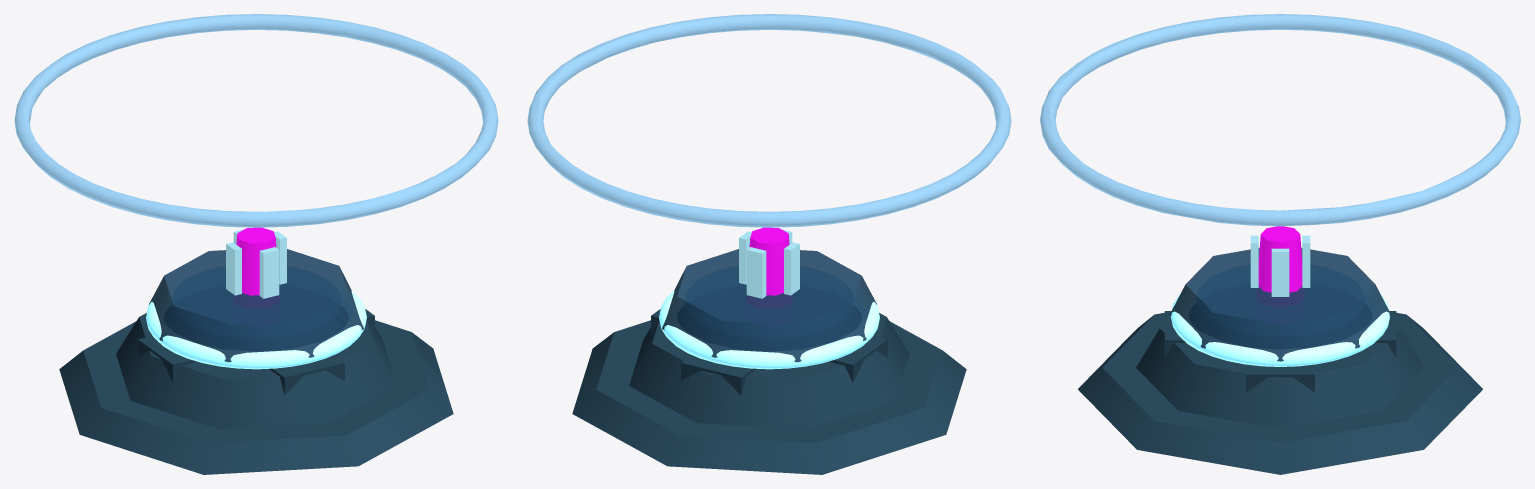
The model's file is courtyard-fountain.medium.glb.
The picture shows the model from 3 angles, left to right: view 1: azimuth 30°, elevation 25°; view 2: azimuth 150°, elevation 25°; view 3: azimuth 270°, elevation 25°; orthographic projection.
Parts seen in each view (by area): view 1: courtyard-fountain-body, upper-halo, courtyard-fountain-transparent|#1a3d5a|#17384a|0.08|0.55|0.2, water-ring, courtyard-fountain-emissive, core; view 2: courtyard-fountain-body, upper-halo, courtyard-fountain-transparent|#1a3d5a|#17384a|0.08|0.55|0.2, water-ring, courtyard-fountain-emissive, core; view 3: courtyard-fountain-body, upper-halo, courtyard-fountain-transparent|#1a3d5a|#17384a|0.08|0.55|0.2, water-ring, core, courtyard-fountain-emissive.
Boxes of the visible parts, left/top/right/bottom form: courtyard-fountain-body: left=59, top=309, right=453, bottom=474; upper-halo: left=14, top=14, right=498, bottom=227; courtyard-fountain-transparent|#1a3d5a|#17384a|0.08|0.55|0.2: left=149, top=249, right=363, bottom=362; water-ring: left=146, top=291, right=366, bottom=369; courtyard-fountain-emissive: left=226, top=229, right=286, bottom=298; core: left=236, top=227, right=276, bottom=295; courtyard-fountain-body: left=572, top=309, right=966, bottom=474; upper-halo: left=527, top=14, right=1011, bottom=227; courtyard-fountain-transparent|#1a3d5a|#17384a|0.08|0.55|0.2: left=662, top=249, right=876, bottom=362; water-ring: left=659, top=291, right=879, bottom=369; courtyard-fountain-emissive: left=739, top=229, right=799, bottom=298; core: left=749, top=227, right=789, bottom=295; courtyard-fountain-body: left=1078, top=311, right=1482, bottom=474; upper-halo: left=1040, top=14, right=1520, bottom=226; courtyard-fountain-transparent|#1a3d5a|#17384a|0.08|0.55|0.2: left=1169, top=248, right=1391, bottom=361; water-ring: left=1170, top=294, right=1390, bottom=366; core: left=1258, top=226, right=1302, bottom=292; courtyard-fountain-emissive: left=1250, top=235, right=1310, bottom=296.
Bounding box in the file's own units: 4.86 × 3.08 × 4.86.
Materials: 7 (7 with a texture image).
